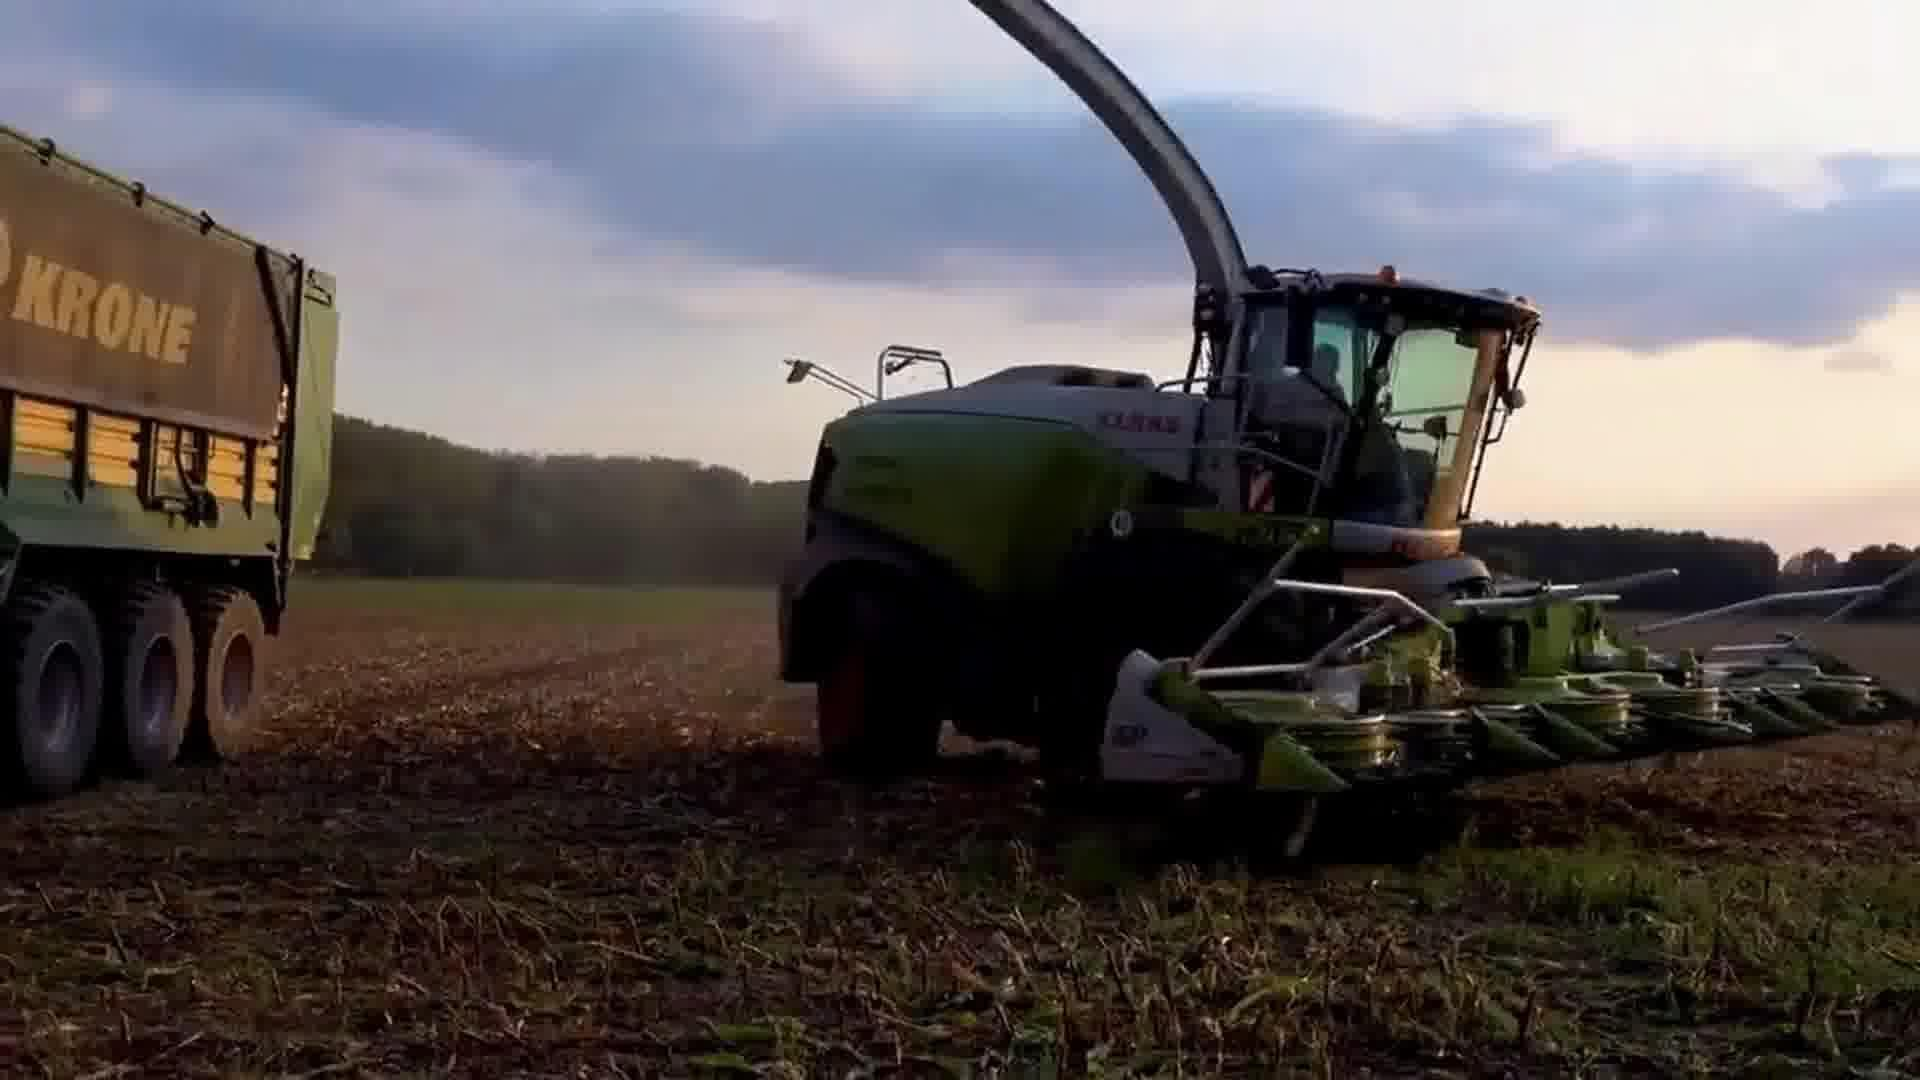combine harvester: (747, 0, 1920, 879)
trailer: (0, 99, 363, 803)
